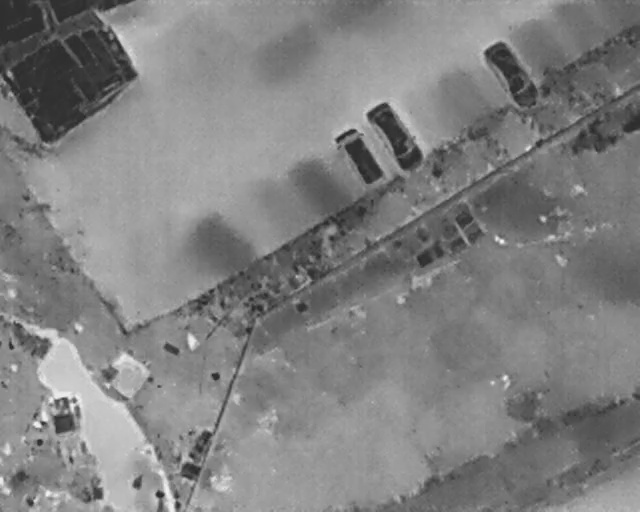Car: (361, 94, 431, 177), (476, 34, 544, 113), (330, 122, 389, 191)
